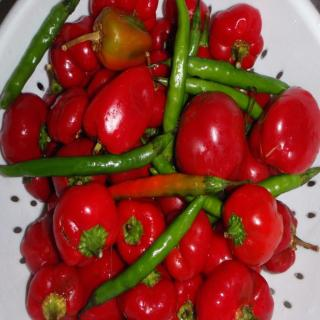tomato: (82, 64, 152, 154), (174, 92, 246, 176), (252, 86, 318, 174), (52, 184, 117, 265), (220, 183, 281, 267), (0, 91, 49, 166), (114, 198, 168, 265), (210, 3, 264, 69), (49, 16, 97, 87), (26, 262, 84, 320), (196, 258, 250, 319), (167, 209, 212, 280), (54, 138, 108, 197), (118, 266, 177, 319), (21, 211, 62, 273), (48, 86, 90, 143), (203, 227, 232, 281), (252, 266, 274, 320), (177, 277, 203, 319), (24, 170, 52, 201), (91, 0, 133, 15)
